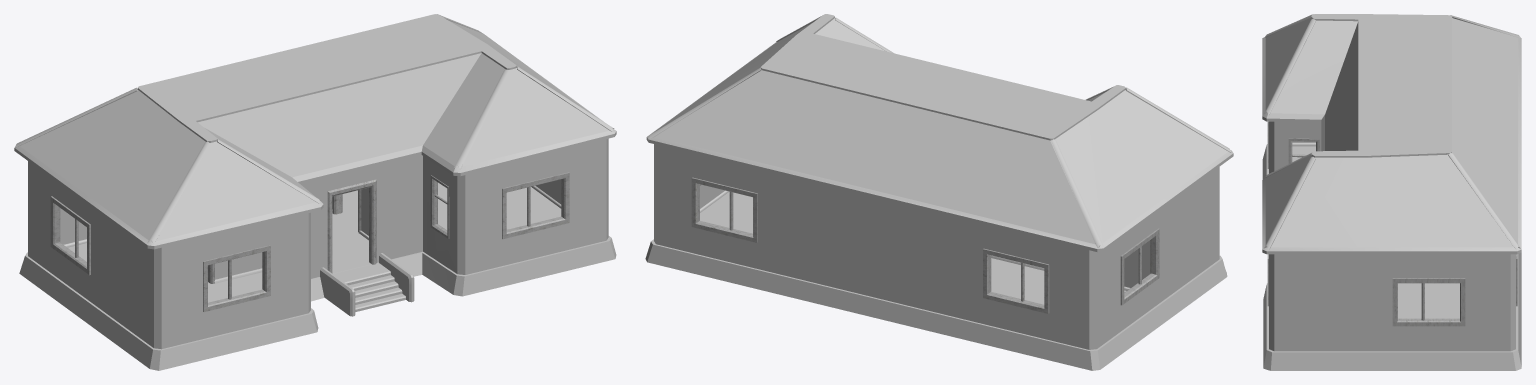
3 renders of one model, left to right at view 1: azimuth 30°, elevation 25°; view 2: azimuth 150°, elevation 25°; view 3: azimuth 270°, elevation 25°, orthographic. The views are drawn at different scales.
Parts seen in each view (by area): view 1: object 2, House, object 5, object 4, object 3; view 2: object 2, House, object 5; view 3: object 2, House, object 5.
Part boxes in pixels (<box>): object 2: <box>14,14,616,249</box>; House: <box>19,138,616,370</box>; object 5: <box>50,172,569,311</box>; object 4: <box>327,179,376,273</box>; object 3: <box>208,189,361,283</box>; object 2: <box>646,14,1233,252</box>; House: <box>645,144,1227,370</box>; object 5: <box>691,177,1159,313</box>; object 2: <box>1262,14,1521,254</box>; House: <box>1262,121,1521,370</box>; object 5: <box>1267,121,1517,326</box>.
Bounding box in the file's own units: 142 × 55.01 × 71.91.
